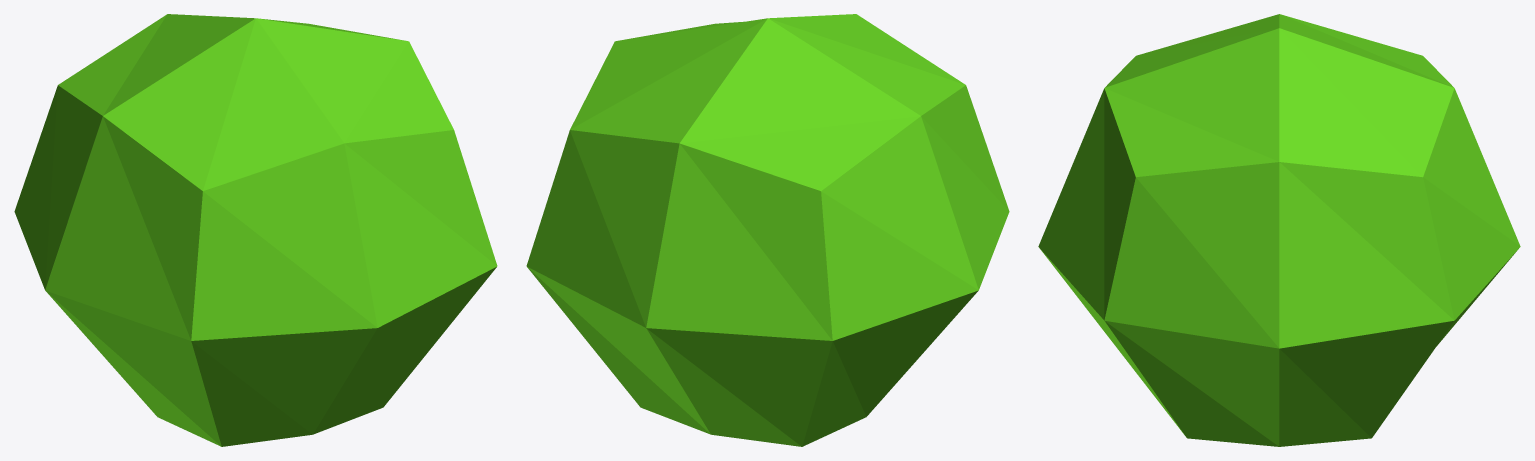
The model's file is Bush.obj.
The picture shows the model from 3 angles, left to right: view 1: azimuth 30°, elevation 25°; view 2: azimuth 150°, elevation 25°; view 3: azimuth 270°, elevation 25°; orthographic projection.
Visible parts, largest first — view 1: Bush_Cube.005; view 2: Bush_Cube.005; view 3: Bush_Cube.005.
Part boxes in pixels (x1,y1,x2,y2): Bush_Cube.005: (14,14,497,446); Bush_Cube.005: (526,14,1009,446); Bush_Cube.005: (1038,14,1520,446).
Size of the model in its own units: 1.89 by 1.6 by 1.89.
